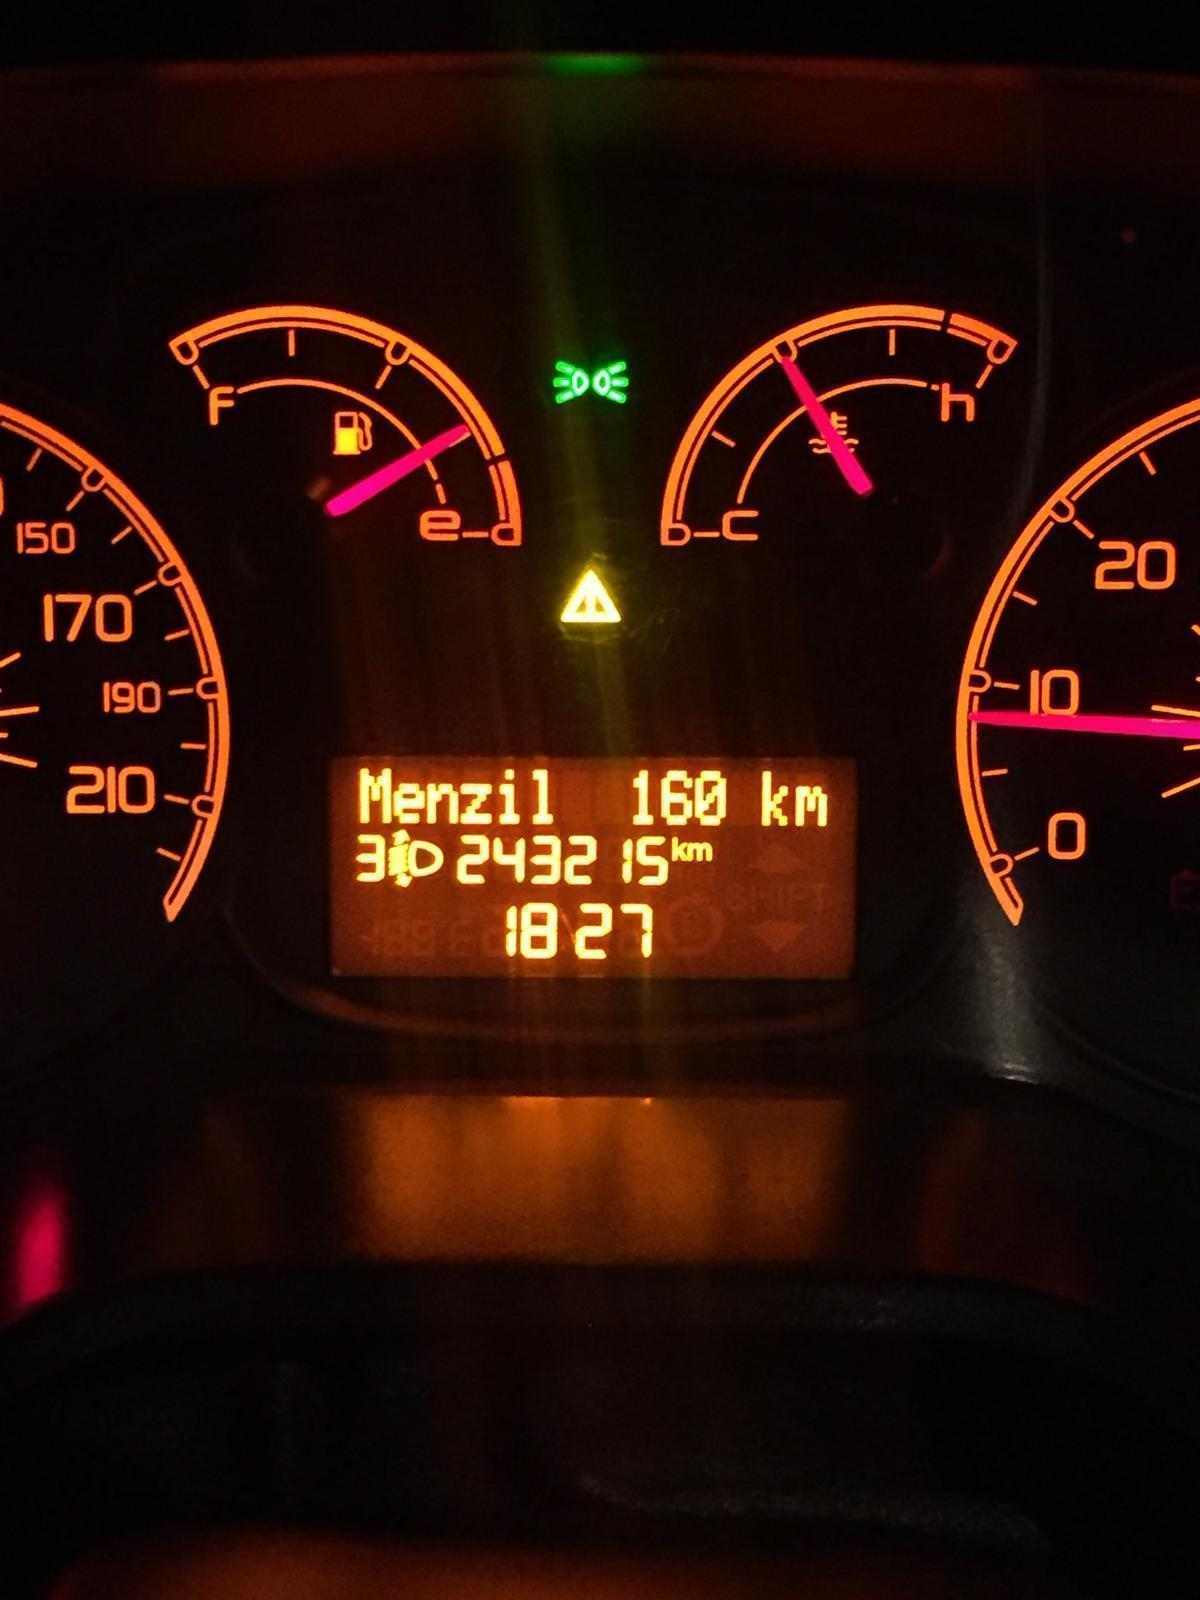0: (693, 766, 727, 830)
1: (629, 769, 657, 826), (500, 900, 516, 963), (616, 833, 633, 887)
2: (574, 898, 614, 963), (563, 831, 600, 888), (454, 830, 490, 886)
3: (529, 831, 562, 886), (354, 830, 387, 884)
4: (492, 834, 528, 887)
5: (637, 833, 667, 889)
6: (661, 769, 695, 826)
7: (620, 900, 657, 963)
8: (521, 900, 561, 960)
X: (355, 763, 393, 826), (761, 766, 794, 830), (528, 763, 556, 826), (459, 779, 494, 828), (795, 784, 829, 830), (425, 779, 458, 826), (498, 765, 524, 824), (393, 777, 424, 826), (686, 839, 713, 864), (671, 834, 688, 864)
odometer: (324, 752, 865, 981)
